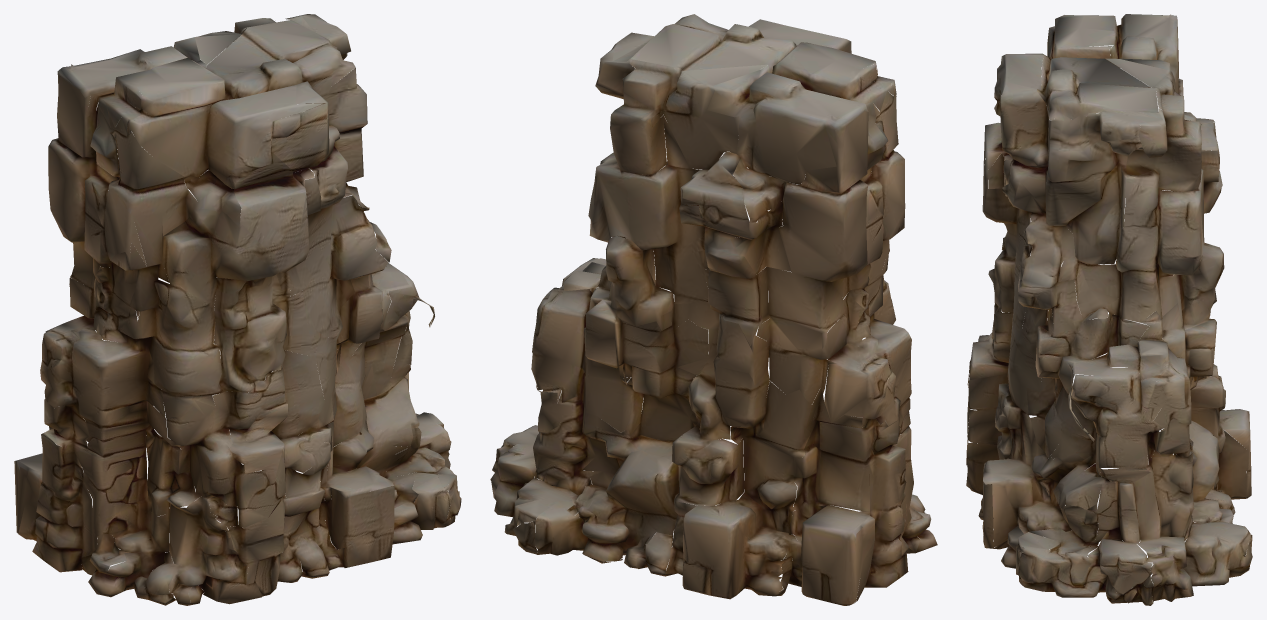
Rendered from cav_limestone_cliff_a_LOD1.glb.
The picture shows the model from 3 angles, left to right: view 1: azimuth 30°, elevation 25°; view 2: azimuth 150°, elevation 25°; view 3: azimuth 270°, elevation 25°; orthographic projection. The views are drawn at different scales.
Parts seen in each view (by area): view 1: tripo_node_3ef656aa-2fe7-4dd1-87fa-00c7bbc1e1c7; view 2: tripo_node_3ef656aa-2fe7-4dd1-87fa-00c7bbc1e1c7; view 3: tripo_node_3ef656aa-2fe7-4dd1-87fa-00c7bbc1e1c7.
Boxes of the visible parts, x1,y1,x2,y2 form: tripo_node_3ef656aa-2fe7-4dd1-87fa-00c7bbc1e1c7: (14, 14, 461, 605); tripo_node_3ef656aa-2fe7-4dd1-87fa-00c7bbc1e1c7: (490, 14, 937, 605); tripo_node_3ef656aa-2fe7-4dd1-87fa-00c7bbc1e1c7: (966, 14, 1252, 605).
Size of the model in its own units: 0.8652 by 1 by 0.5847.
Materials: 1 (1 with a texture image).
